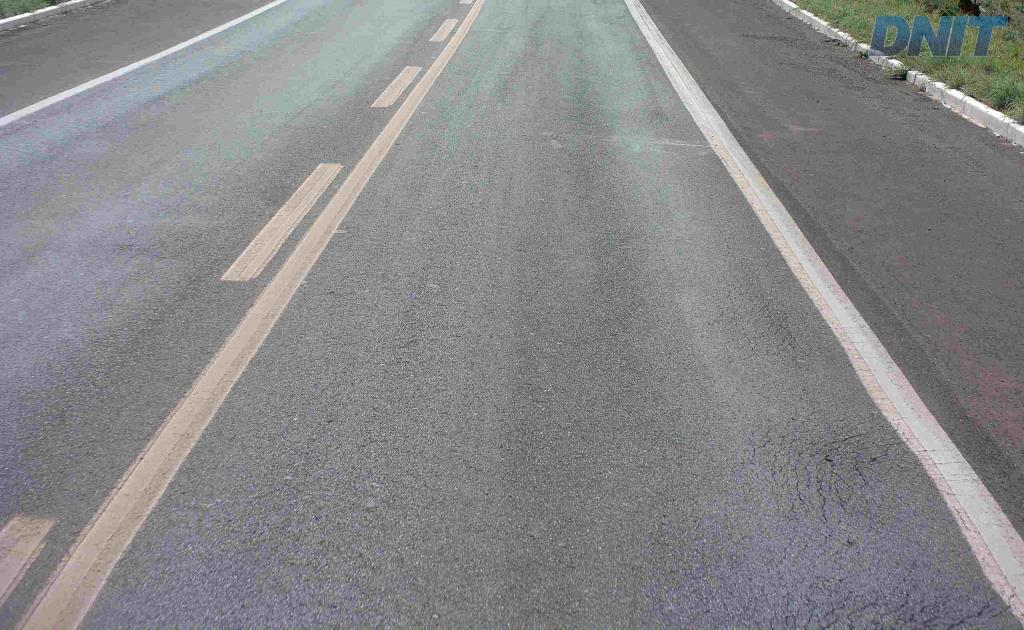crack: (809, 432, 867, 492), (911, 594, 952, 629)
